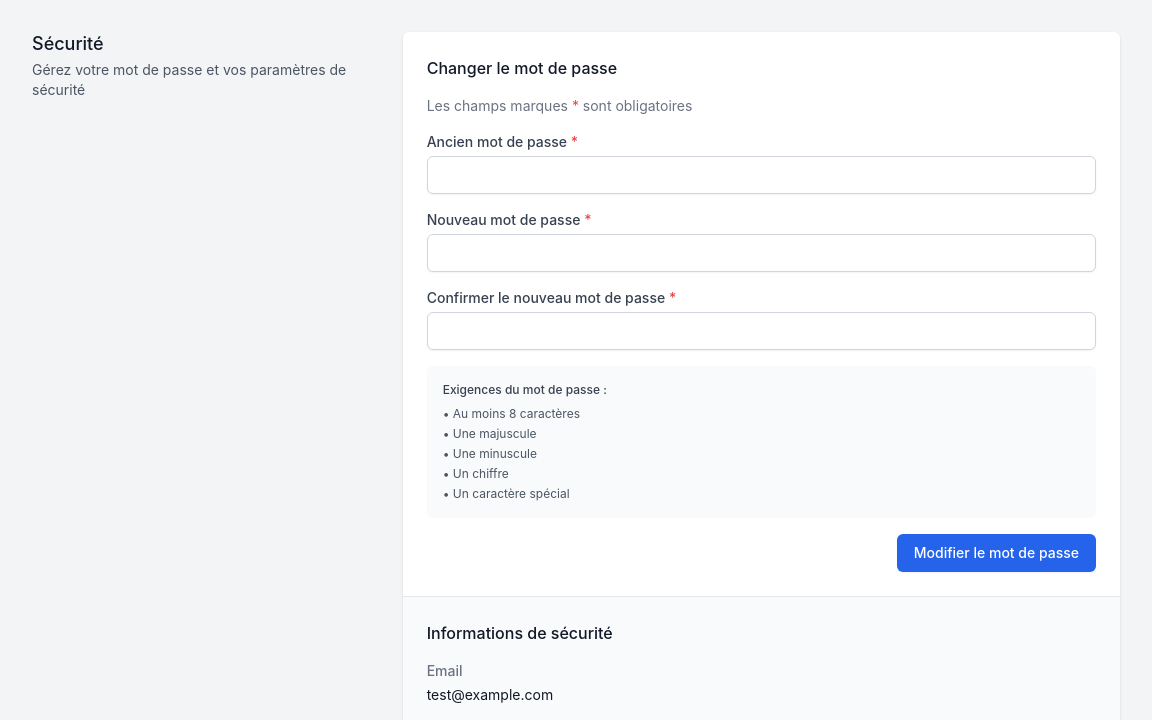
Test: SecuritySettingsPage › should validate password strength
In the password field labelled "Ancien mot de passe *": (761, 175) 427,156 -> 1096,194, type "OldPassword123!"
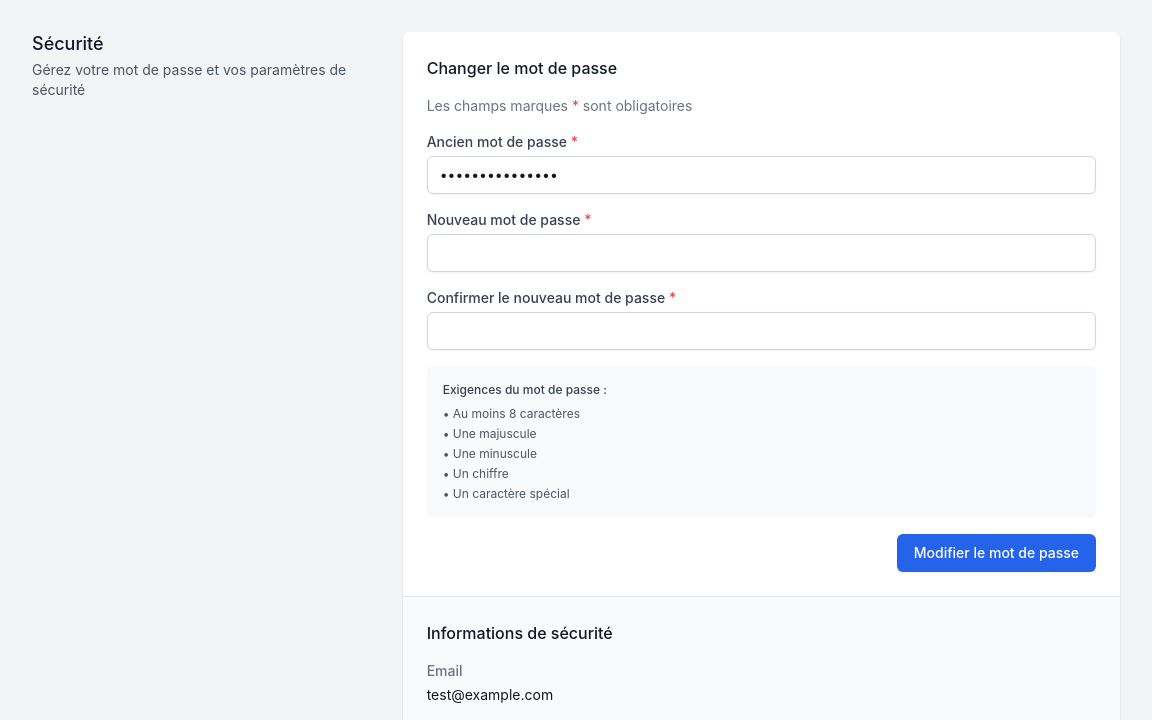
In the password field labelled "Nouveau mot de passe *": (761, 253) 427,234 -> 1096,272, type "weak"
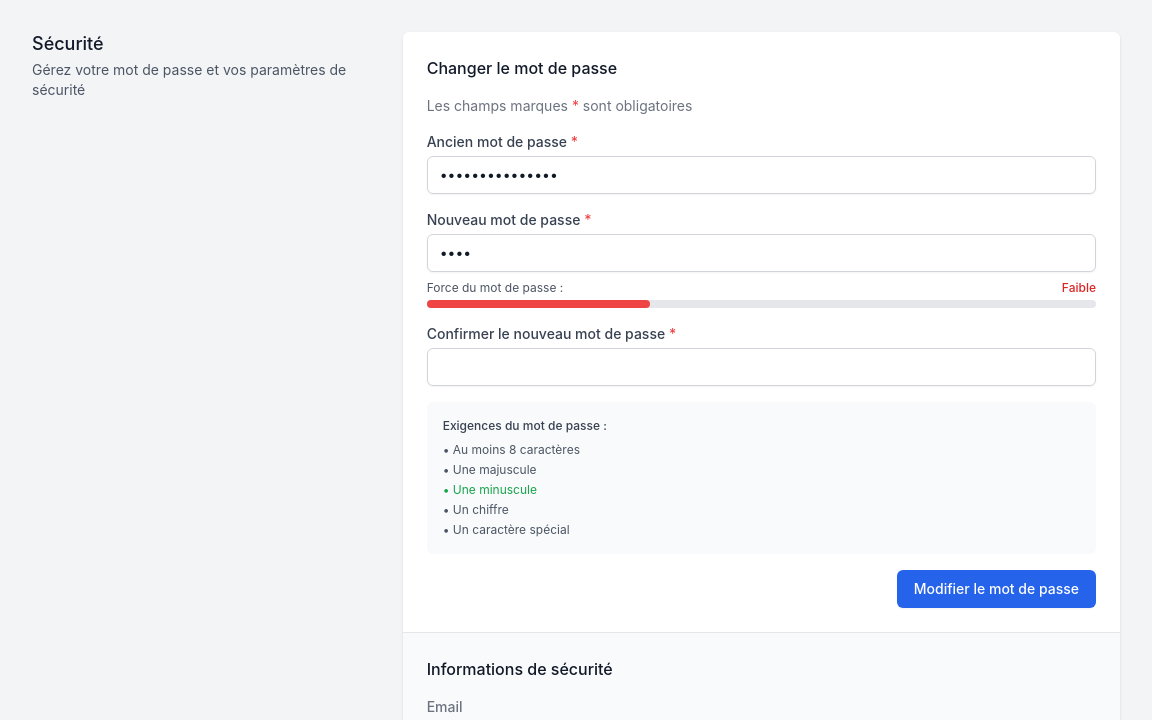
In the password field labelled "Confirmer le nouveau mot de passe *": (761, 367) 427,348 -> 1096,386, type "weak"
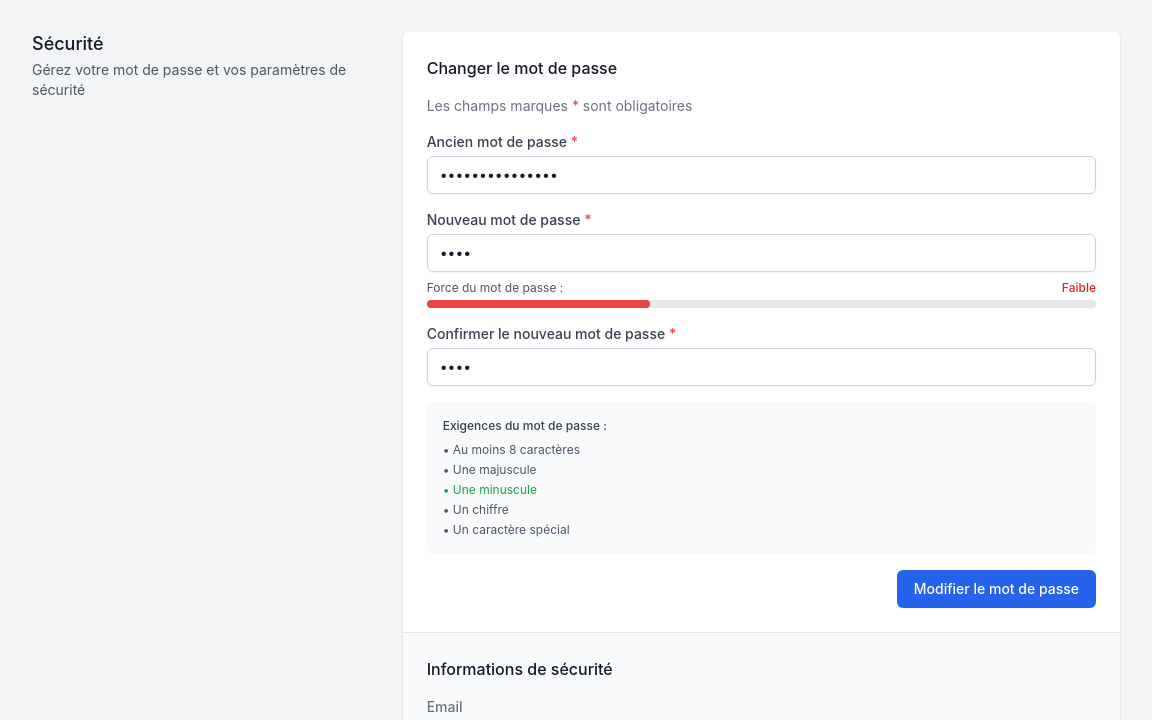
Click the button "Modifier le mot de passe": (996, 589) 897,570 -> 1096,608
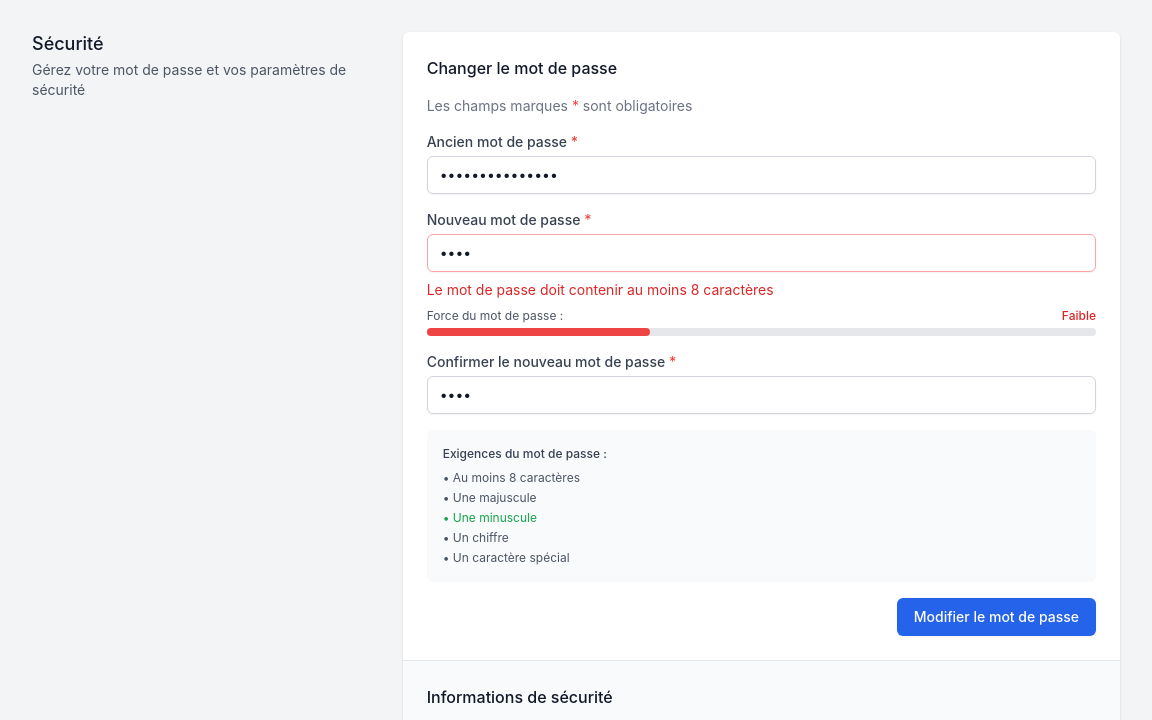
Now the text "Le mot de passe doit contenir au moins 8 caractères" is shown, box 427,281 -> 774,298
